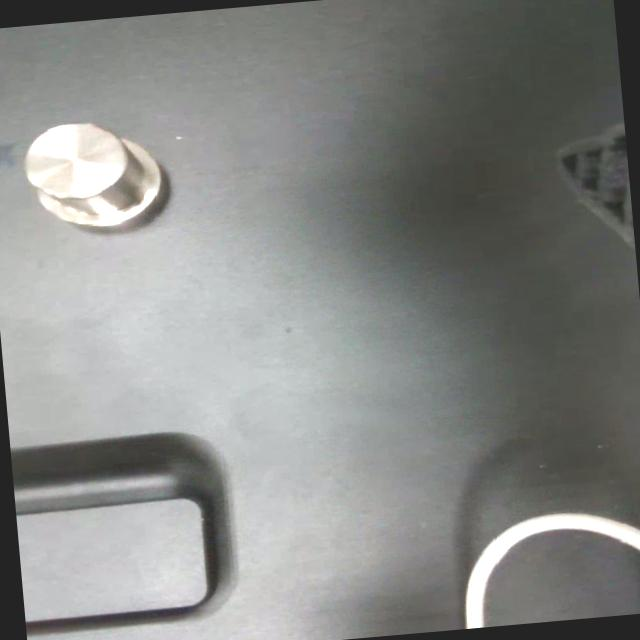sensor: (18, 113, 166, 235)
